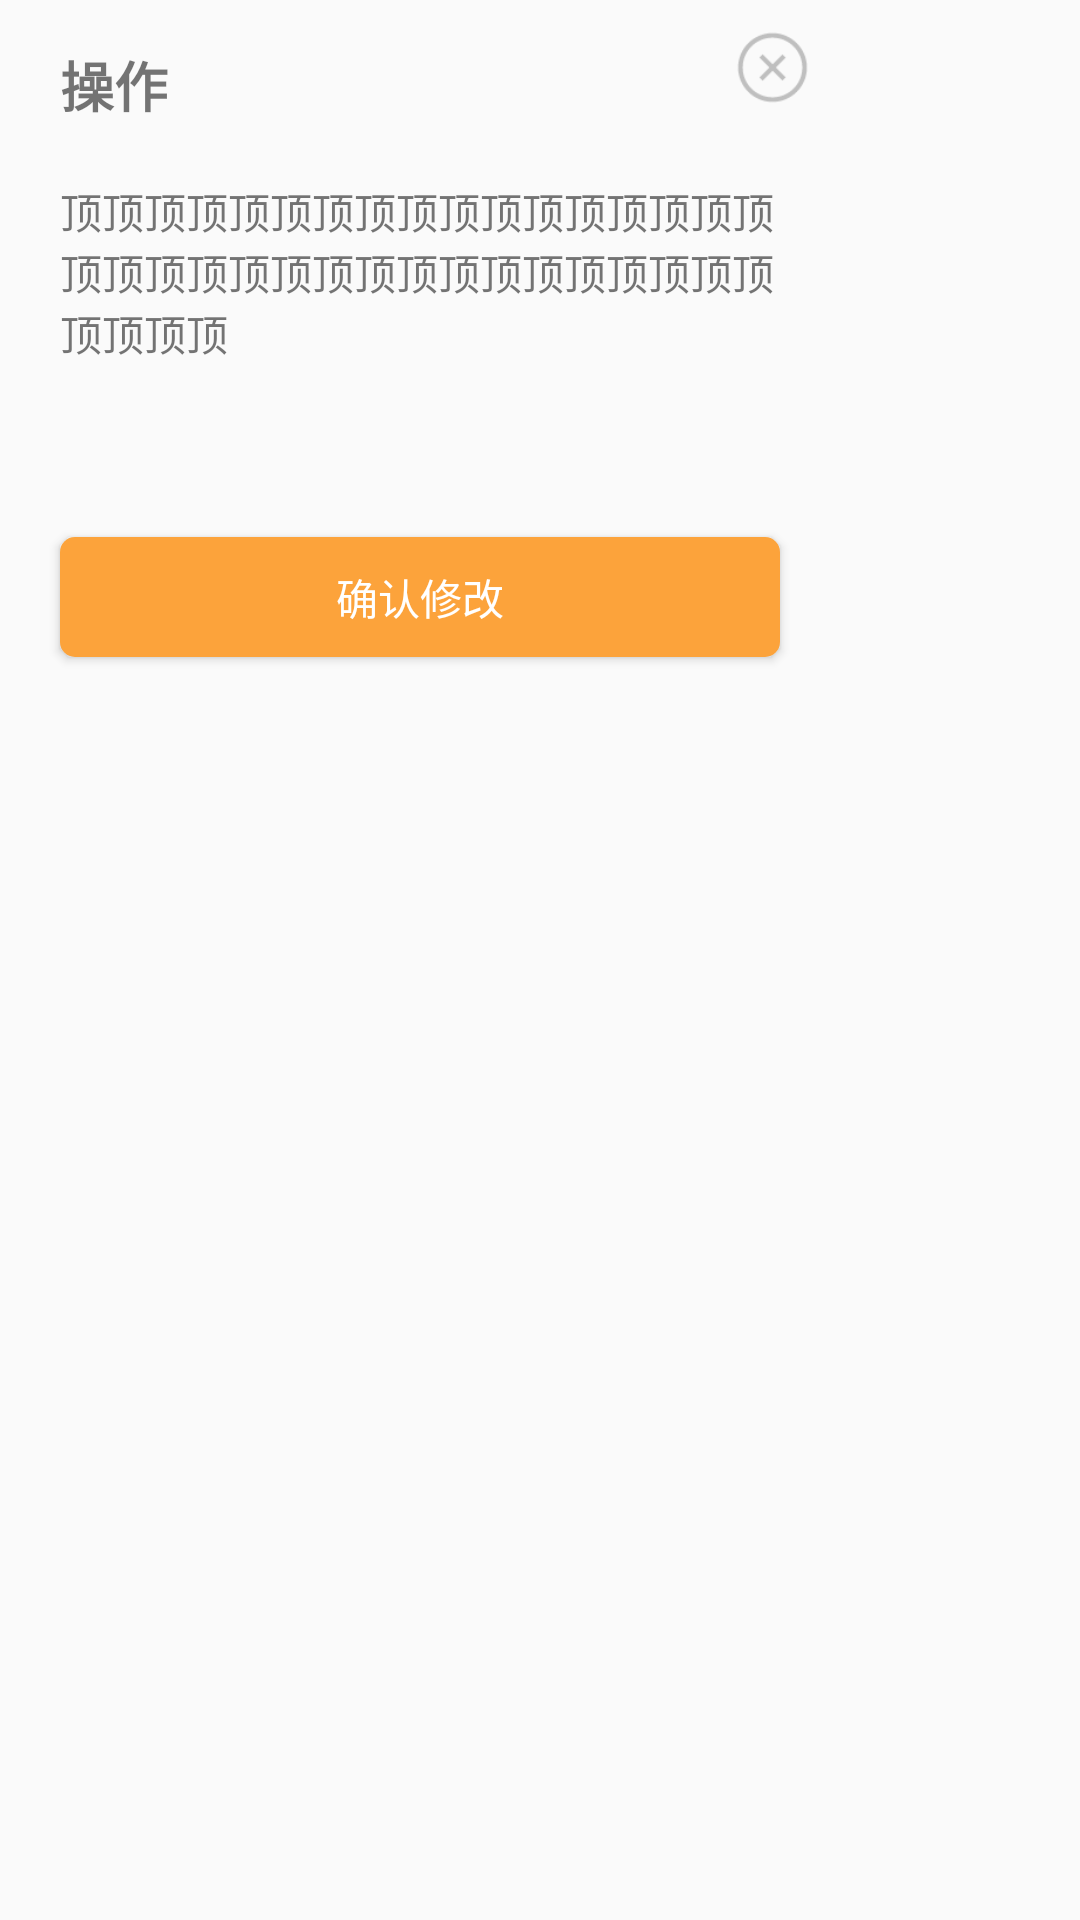

Named icons in this screenshot (1080px x 1920px) and their bounding boxes, {"left": x1, "top": y1, "right": x2, "bottom": y2}:
close dialog: {"left": 738, "top": 33, "right": 807, "bottom": 102}
